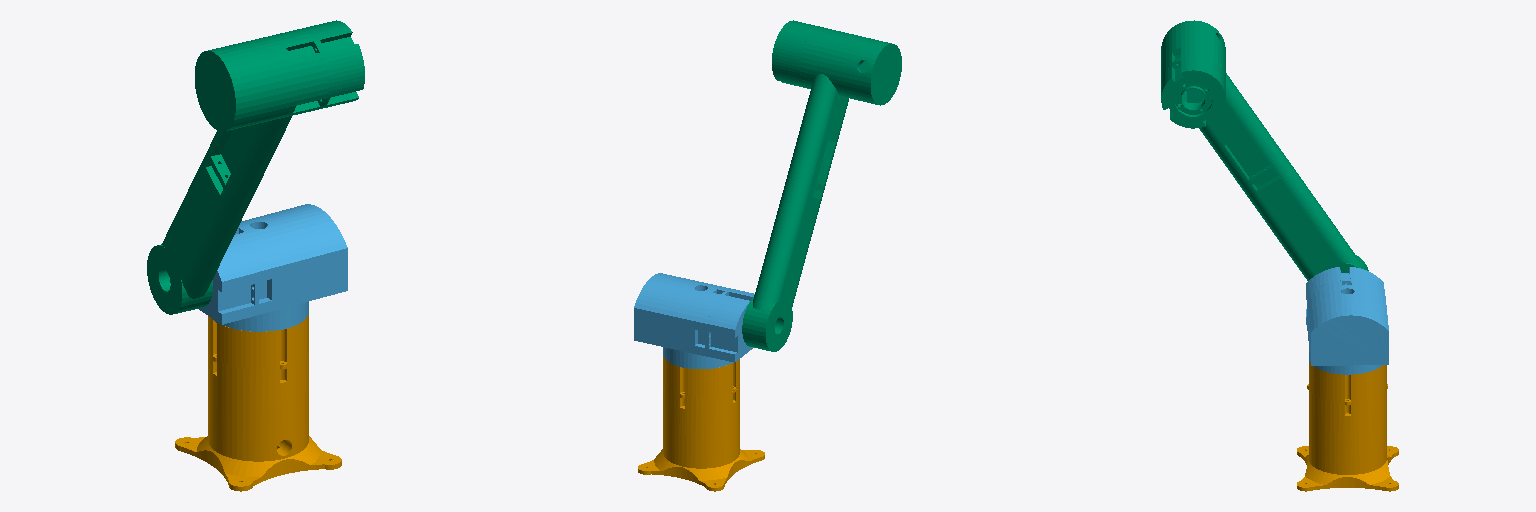
URDF robot description (arm):
<robot name="arm">
  <link name="base_link">
    <visual>
      <geometry>
        <mesh filename="package://robot_support/files/base.dae"/>
      </geometry>
      <origin rpy="1.57075 0 0" xyz=" 0 0 0"/>
    </visual>
  </link>
  
  <link name="link_1">
    <visual>
      <geometry>
        <mesh filename="package://robot_support/files/l1.dae"/>
      </geometry>
      <origin rpy="1.57075 0 0" xyz="-12 0 52"/>
    </visual>
  </link>
  
  <link name="link_2">
    <visual>
      <geometry>
        <mesh filename="package://robot_support/files/l2.dae"/>
      </geometry>
      <origin rpy="3.1415 0.05 0" xyz="-85 15 480"/>
    </visual>
  </link>
  
  <joint name="base_to_l1" type="fixed">
    <parent link="base_link"/>
    <child link="link_1"/>
  </joint>
  
  <joint name="l1_to_l2" type="fixed">
    <parent link="link_1"/>
    <child link="link_2"/>
  </joint>
  
</robot>

--- Render facts (derived) ---
3 views of the same robot in one strip: view 1: azimuth 30°, elevation 25°; view 2: azimuth 150°, elevation 25°; view 3: azimuth 270°, elevation 25° (orthographic).
Model arm with 3 links and 2 joints (2 fixed), rooted at base_link, posed every joint at zero.
Links seen in each view (by area): view 1: link_2, base_link, link_1; view 2: link_2, base_link, link_1; view 3: link_2, base_link, link_1.
Link boxes in pixels (x1=…): link_2: x1=147, y1=20, x2=364, y2=314; base_link: x1=175, y1=314, x2=341, y2=491; link_1: x1=199, y1=204, x2=347, y2=331; link_2: x1=742, y1=20, x2=901, y2=351; base_link: x1=638, y1=356, x2=764, y2=491; link_1: x1=634, y1=273, x2=754, y2=368; link_2: x1=1161, y1=20, x2=1368, y2=280; base_link: x1=1297, y1=362, x2=1398, y2=491; link_1: x1=1306, y1=267, x2=1388, y2=374.
Size in the robot's own frame: 203 by 258 by 475 metres.
Meshes: 3 distinct files referenced, 3 mesh visuals loaded (3 Collada DAE).